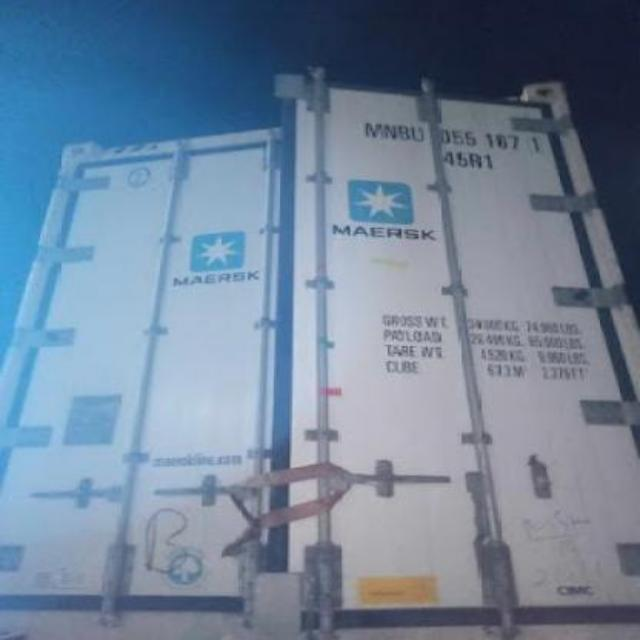0: (438, 127, 450, 145)
1: (528, 134, 546, 154), (484, 130, 496, 148)
5: (466, 128, 478, 150), (451, 128, 464, 148)
6: (494, 134, 508, 150)
7: (508, 132, 524, 152)
B: (398, 124, 410, 140)
M: (366, 122, 382, 138)
N: (382, 123, 398, 139)
U: (411, 124, 424, 142)
